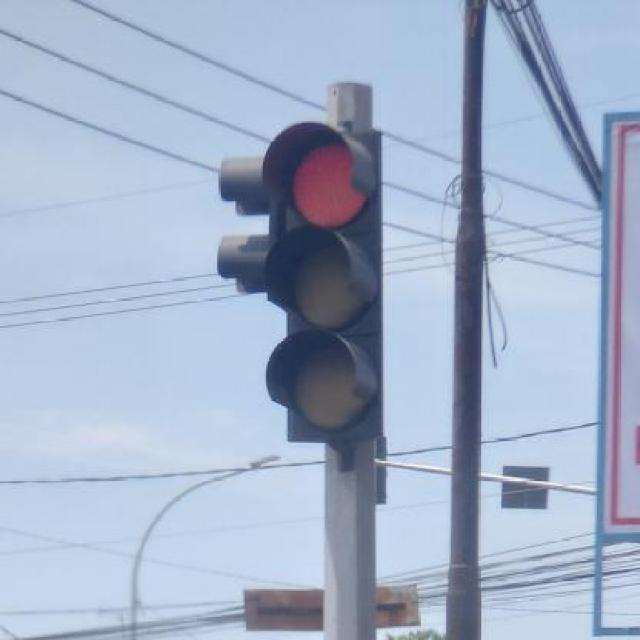traffic light: (268, 128, 380, 437)
